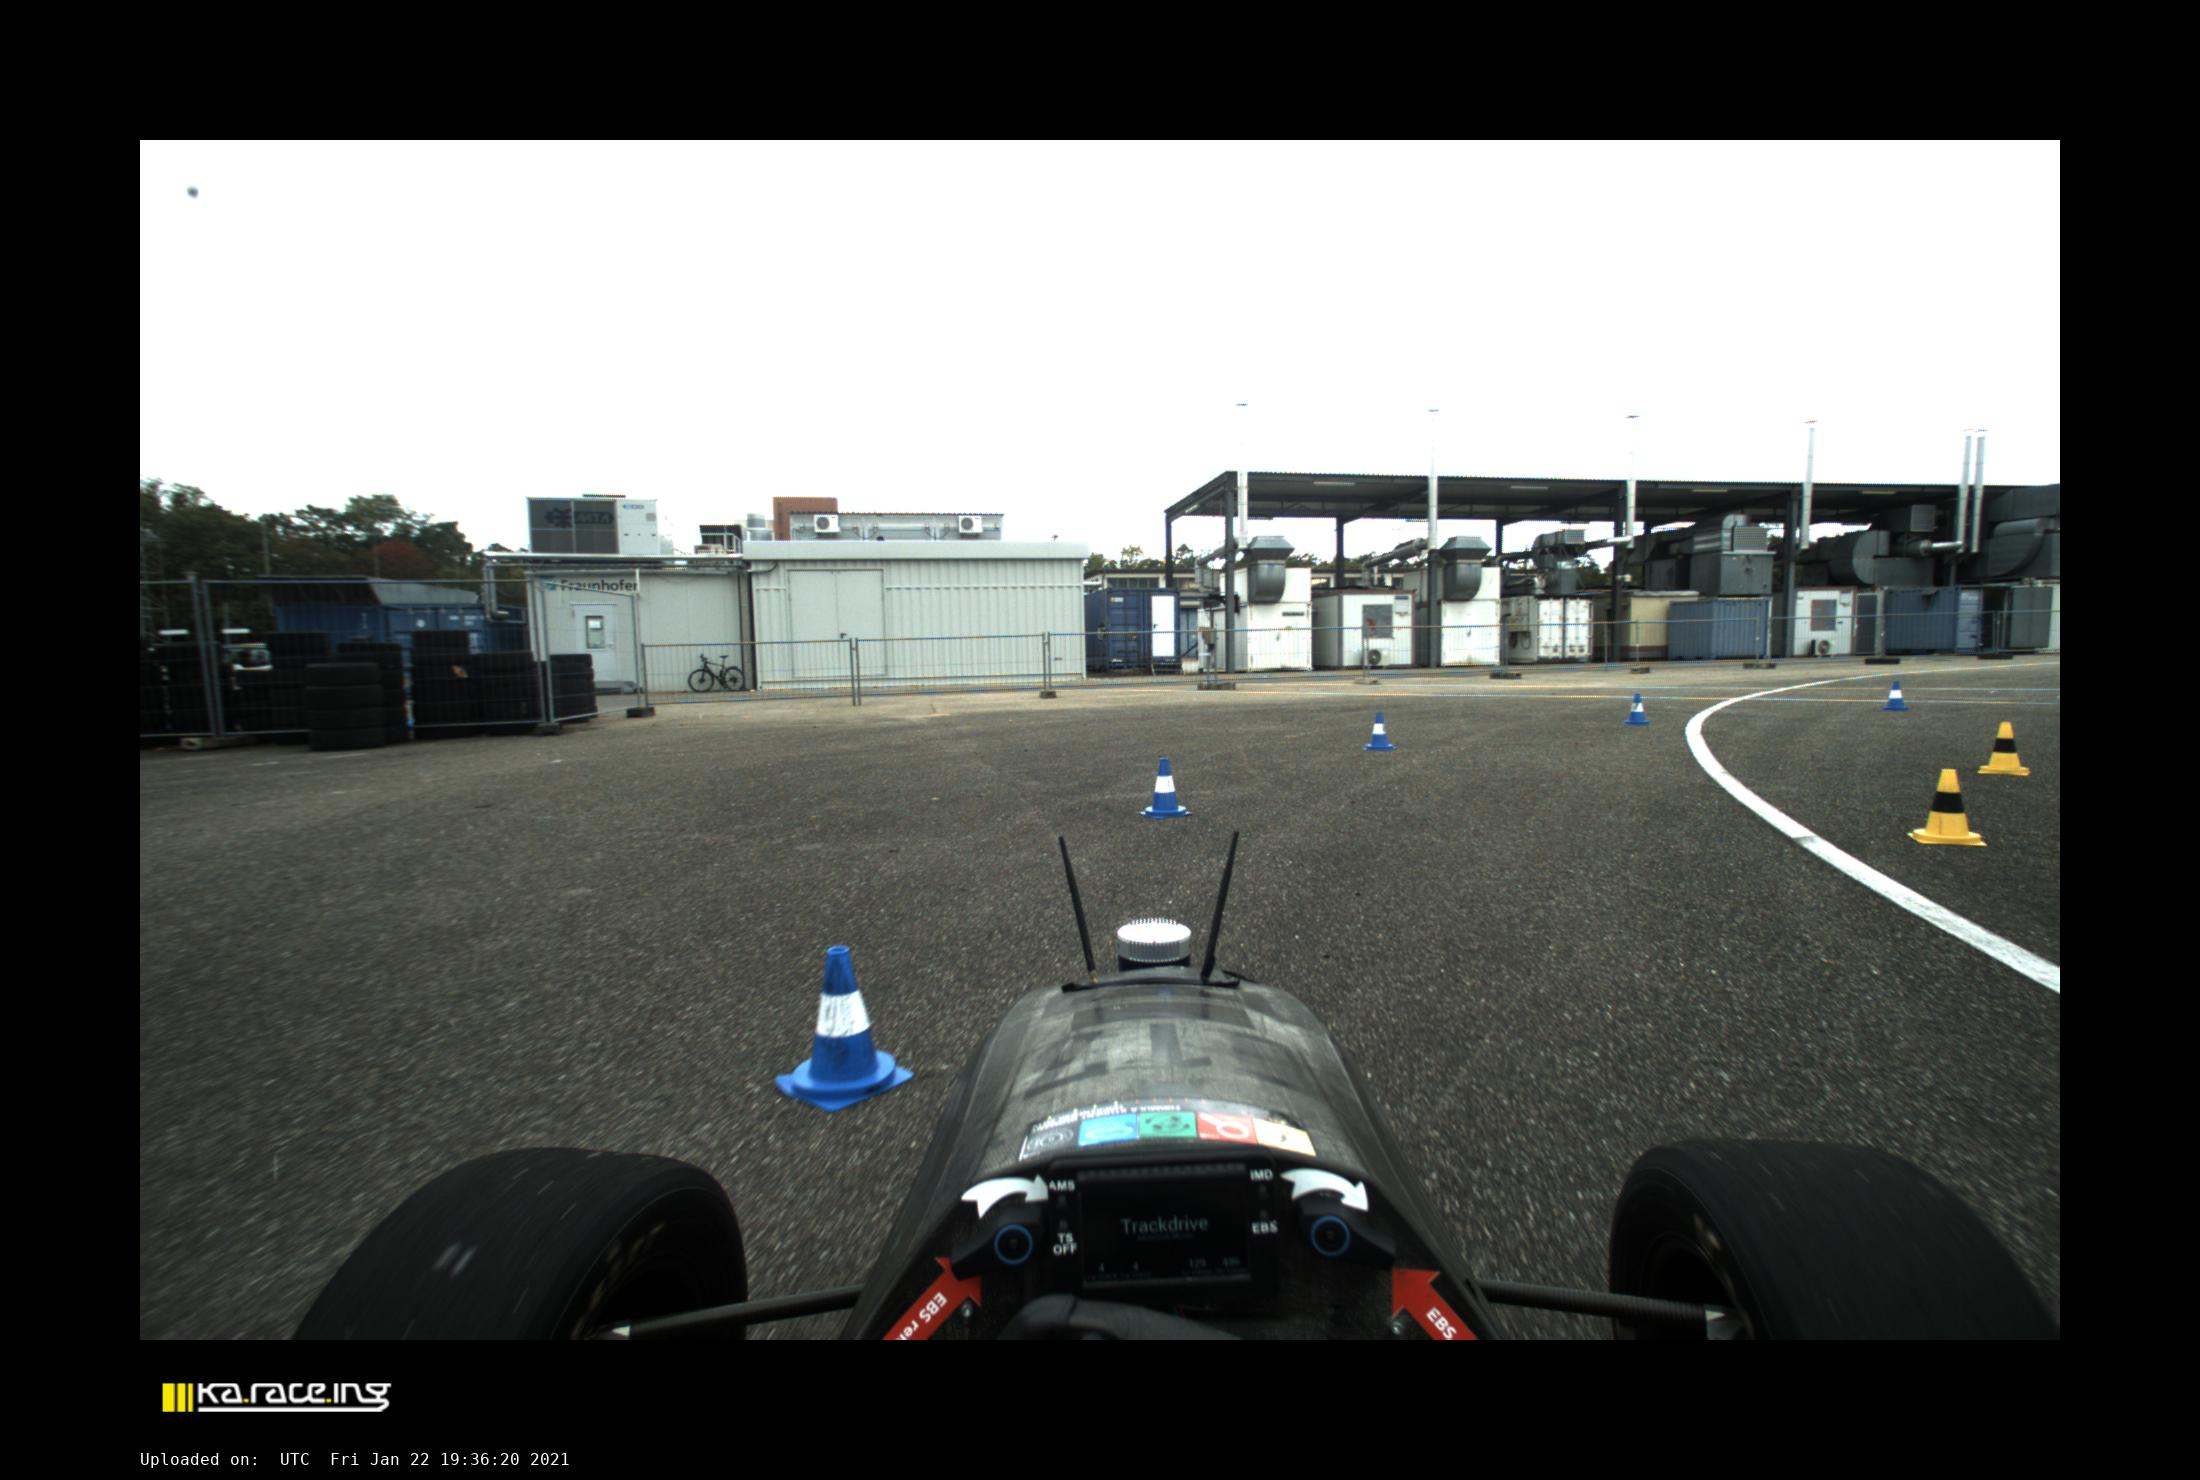blue_cone: (774, 946, 913, 1111), (1141, 758, 1190, 819), (1363, 712, 1397, 751), (1624, 693, 1650, 725), (1882, 681, 1909, 711)
yellow_cone: (1907, 769, 1988, 846), (1979, 721, 2031, 776)
